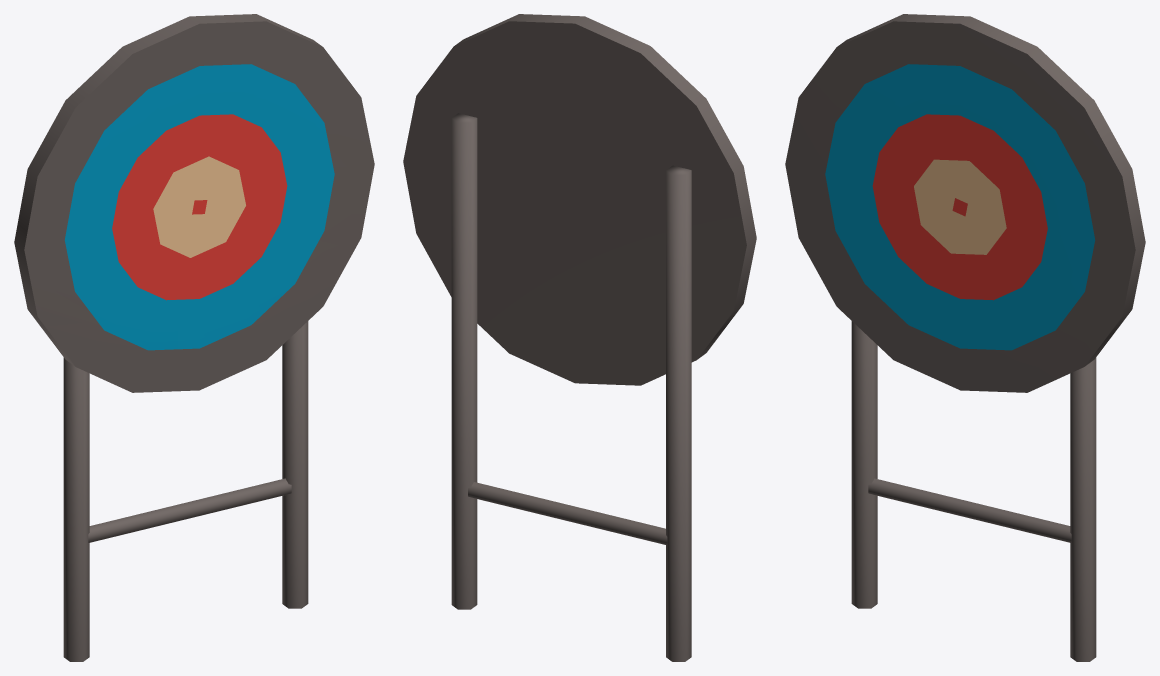
The model's file is Target_001.glb.
3 views of the same model, side by side, from view 1: azimuth 30°, elevation 25°; view 2: azimuth 150°, elevation 25°; view 3: azimuth 330°, elevation 25° (orthographic).
Visible parts, largest first — view 1: Target_001; view 2: Target_001; view 3: Target_001.
Part boxes in pixels (left/top/right/bottom): Target_001: left=14, top=14, right=374, bottom=661; Target_001: left=403, top=14, right=756, bottom=661; Target_001: left=785, top=14, right=1145, bottom=661.
Bounding box in the file's own units: 1.36 × 2.29 × 0.1363.
Materials: 1 (1 with a texture image).
